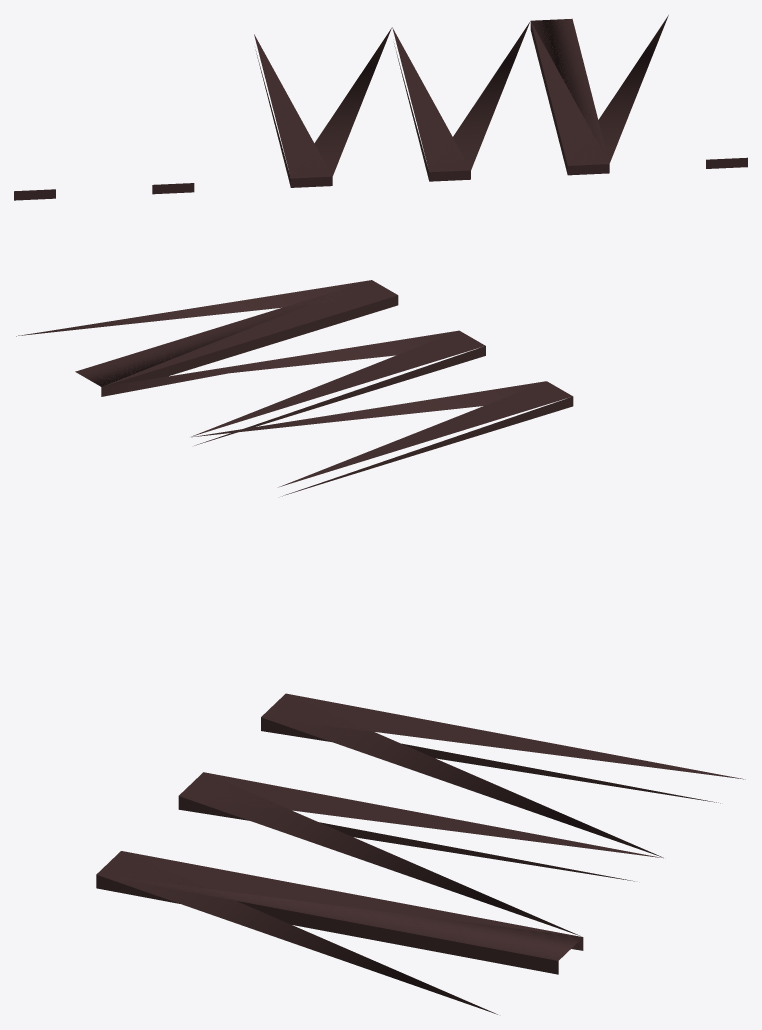
3 views of the same model, one above another, from view 1: azimuth 30°, elevation 25°; view 2: azimuth 150°, elevation 25°; view 3: azimuth 270°, elevation 25° (orthographic). The views are drawn at different scales.
Size of the model in its own units: 4.79 by 0.064 by 3.1.
